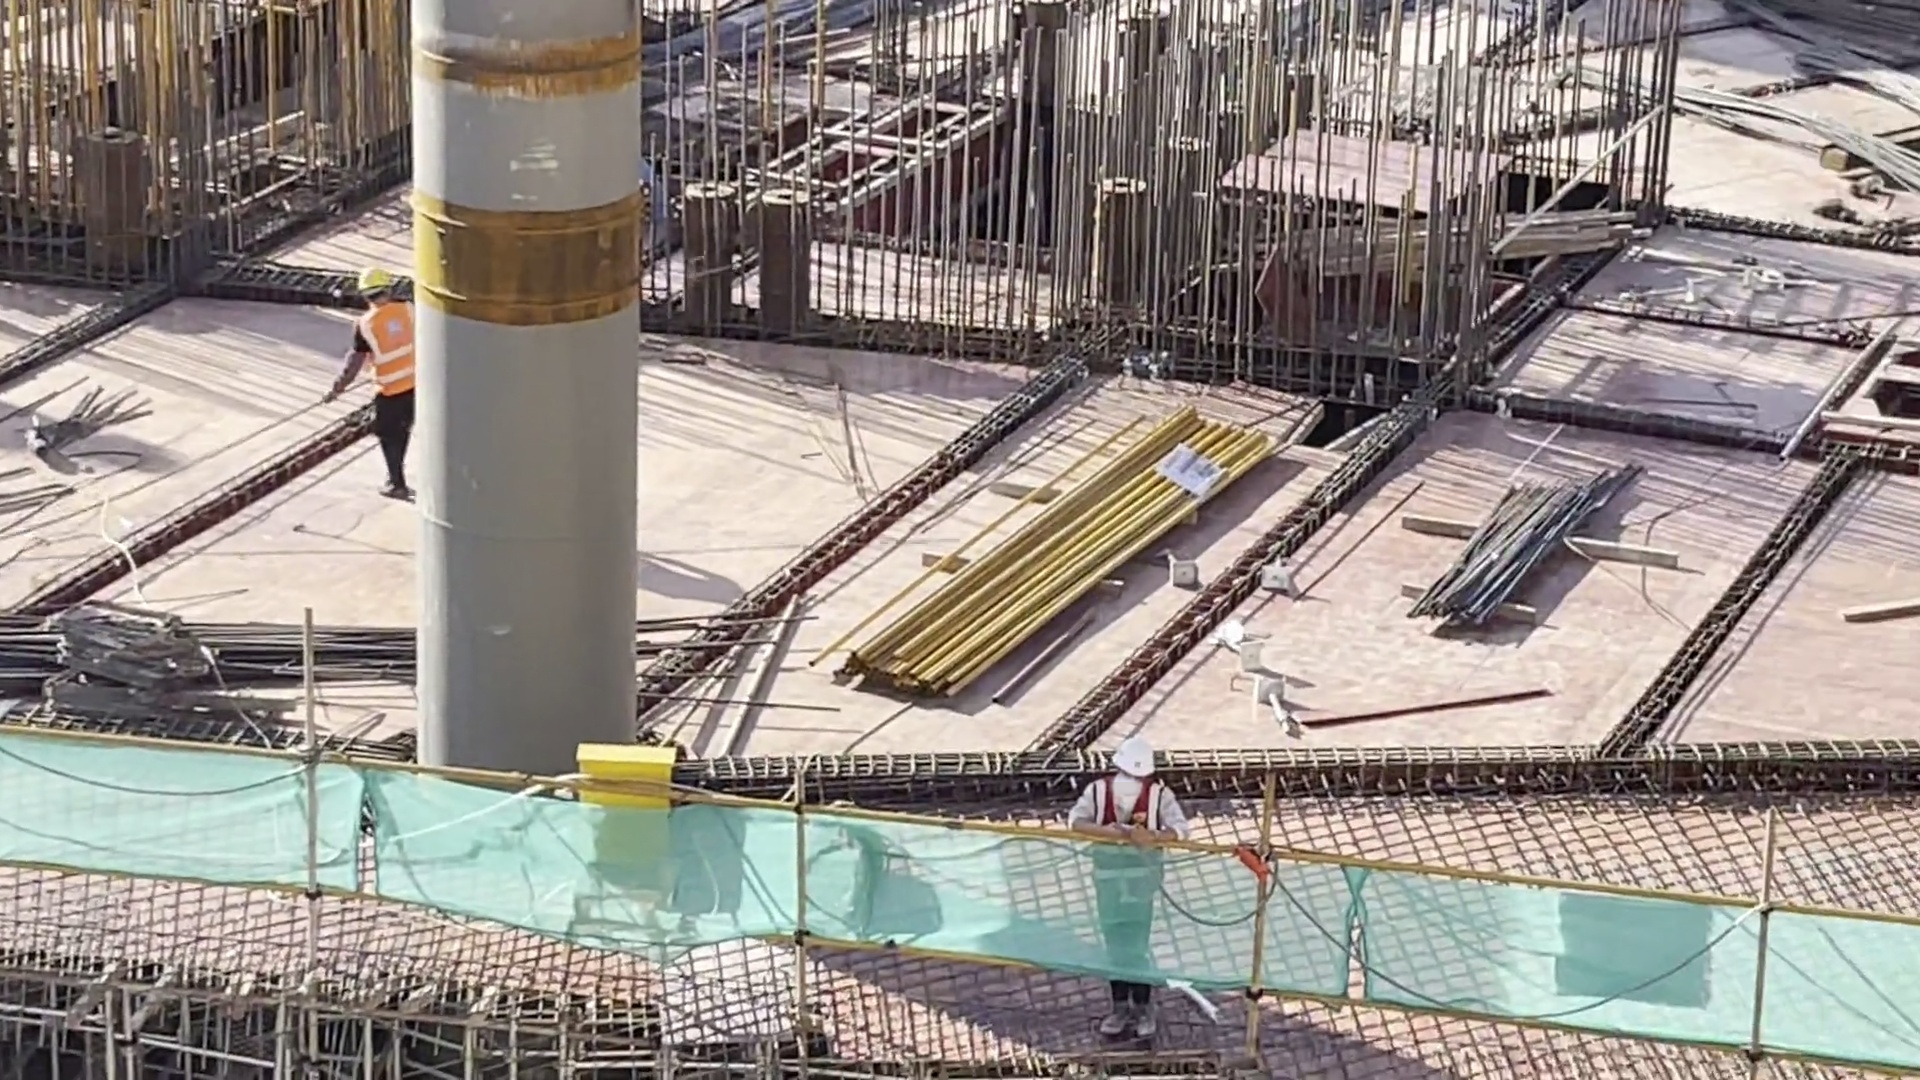helmet: (1109, 729, 1160, 778), (353, 265, 392, 296)
person: (1061, 717, 1174, 1053), (341, 256, 428, 490)
vest: (1094, 785, 1155, 889), (355, 307, 418, 393)
